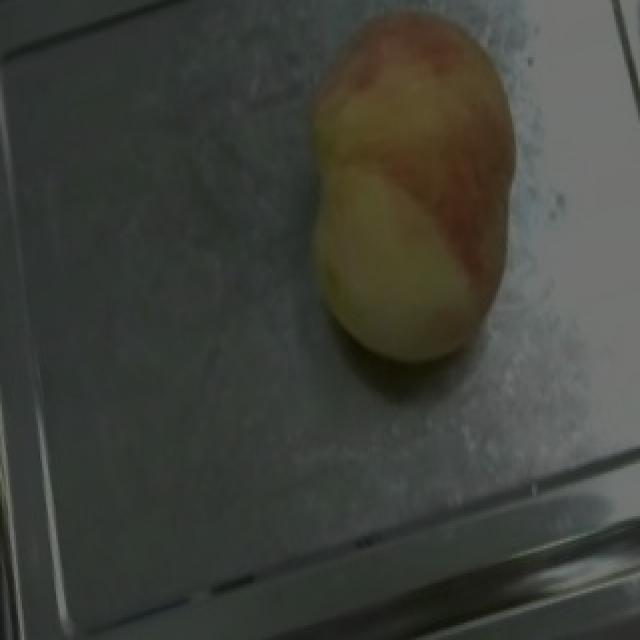Fruit: (256, 0, 562, 380)
